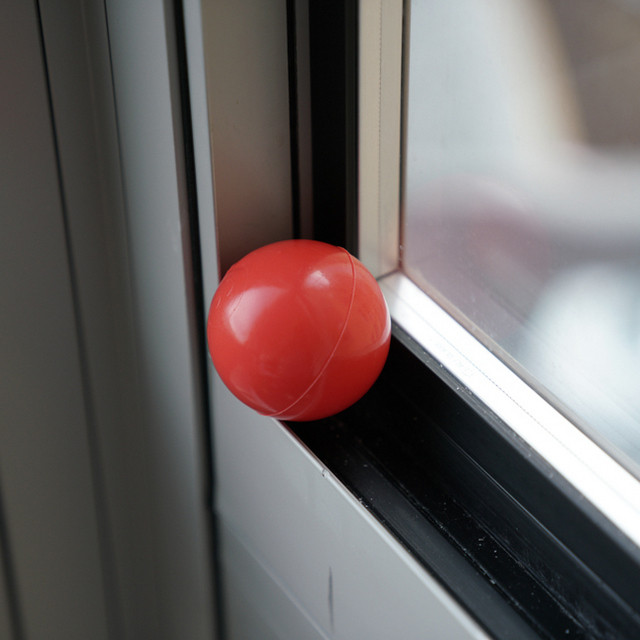Ball: (206, 239, 390, 424)
